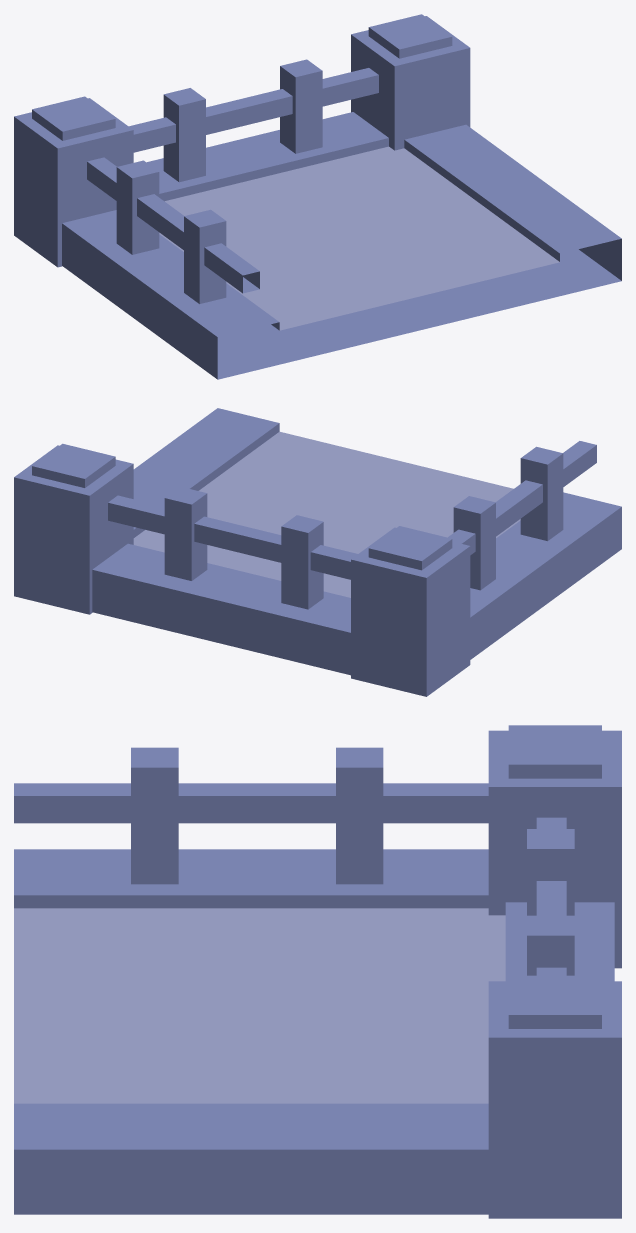
The model's file is bridge_1_part_6.fbx.
The picture shows the model from 3 angles, top to bottom: view 1: azimuth 30°, elevation 25°; view 2: azimuth 150°, elevation 25°; view 3: azimuth 270°, elevation 25°; orthographic projection. The views are drawn at different scales.
Visible parts, largest first — view 1: bridge_1_part_6; view 2: bridge_1_part_6; view 3: bridge_1_part_6.
Boxes of the visible parts, box(x1,y1,x2,y2) form: bridge_1_part_6: box(14, 14, 621, 379); bridge_1_part_6: box(14, 408, 621, 696); bridge_1_part_6: box(14, 725, 621, 1218).
Size of the model in its own units: 9.8 by 2.91 by 8.21.
